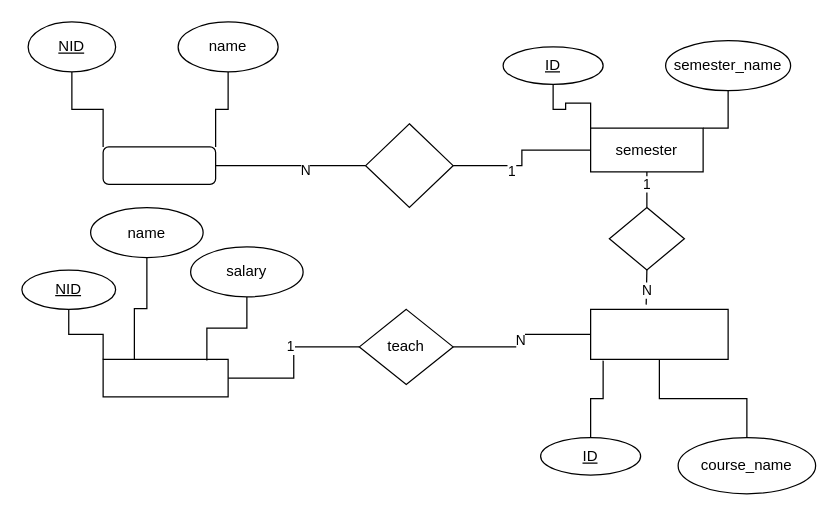
Image size: 838x516. Some labels were removed from this diagram. Here are the shapes that lost their labels. From the top down, the centre of each, then its label:
At point (159, 165): "student".
At point (408, 165): "IN".
At point (646, 238): "has".
At point (658, 333): "courses".
At point (165, 377): "Doctor".
